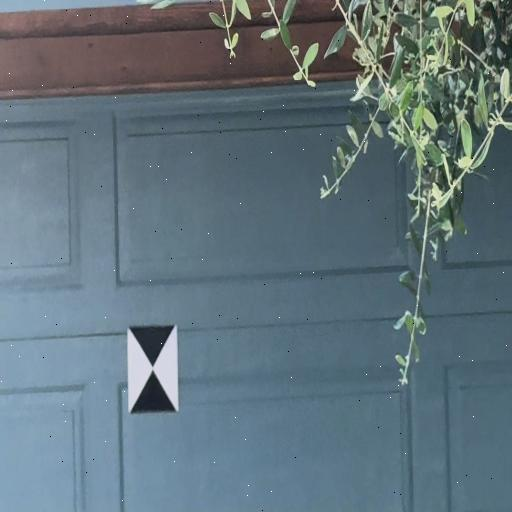target: (128, 326, 179, 412)
